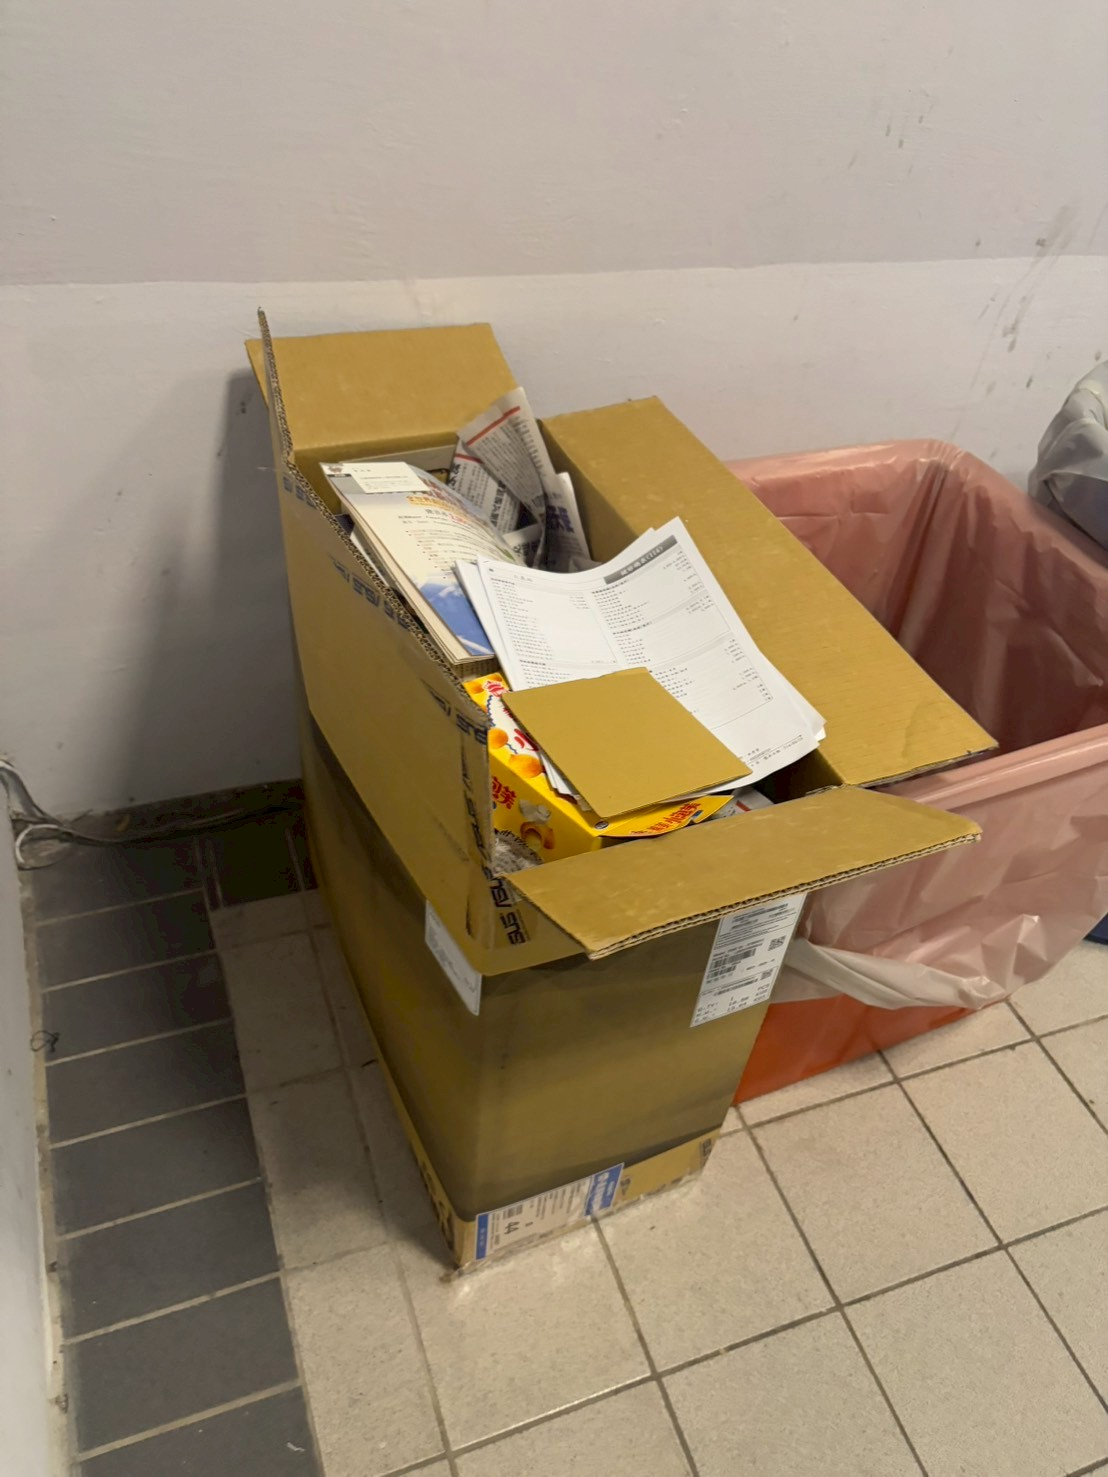overflow_bin: (209, 294, 1032, 1325)
